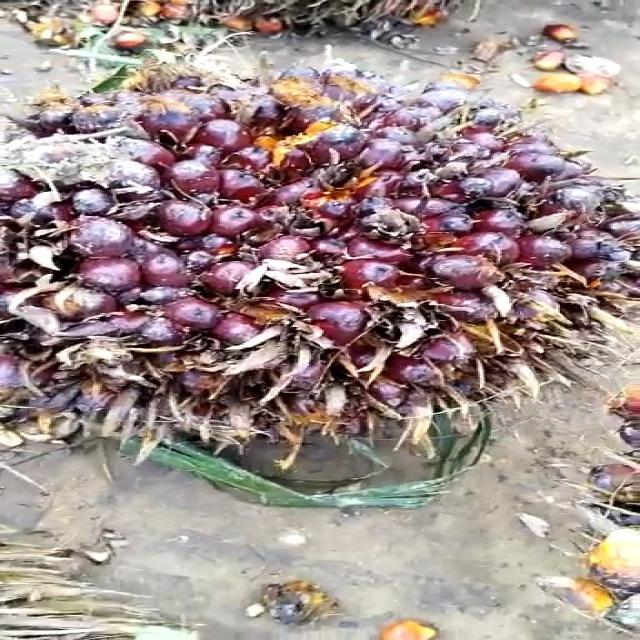palm oil: (0, 62, 640, 438)
